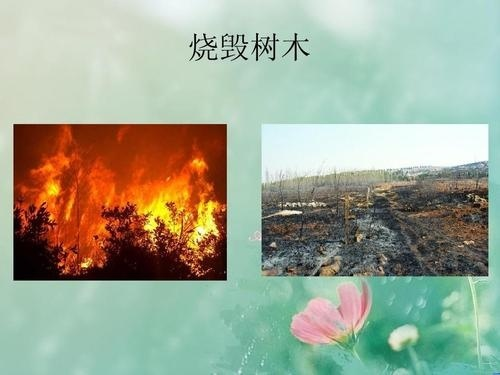fire: (25, 131, 224, 273)
